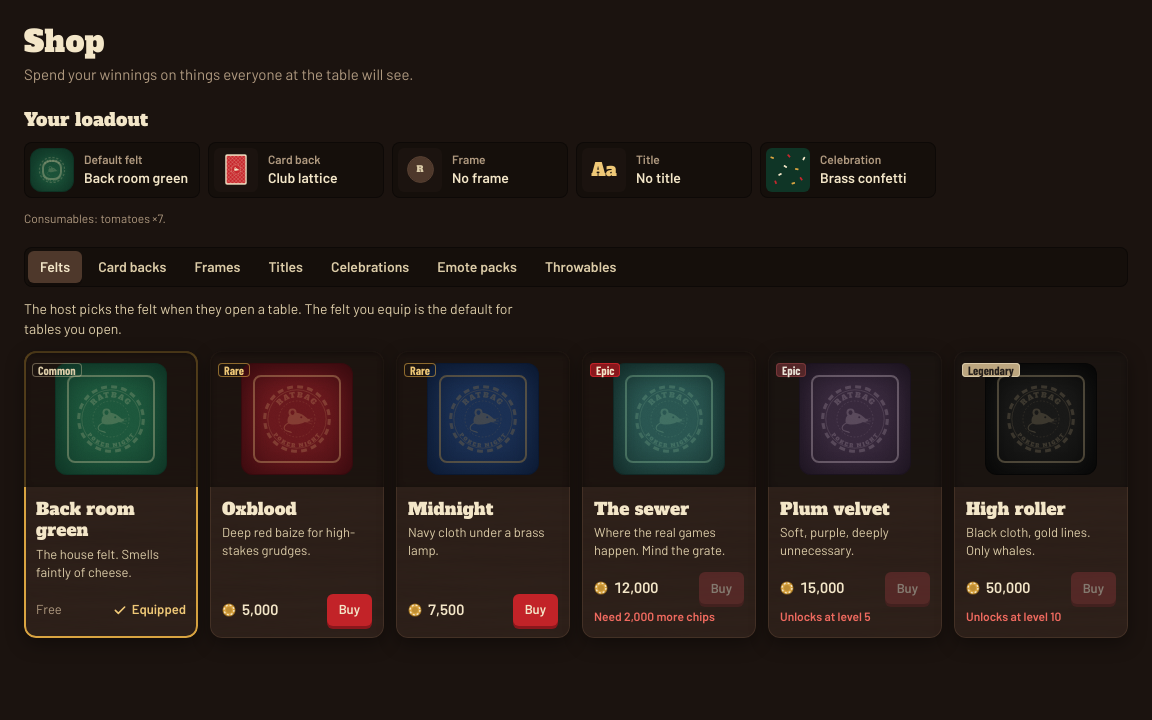
it: ShopScreen › shows consumable quantities owned and emote packs as owned
Click the tab "Throwables" at (581, 267), box [533,251,628,283]
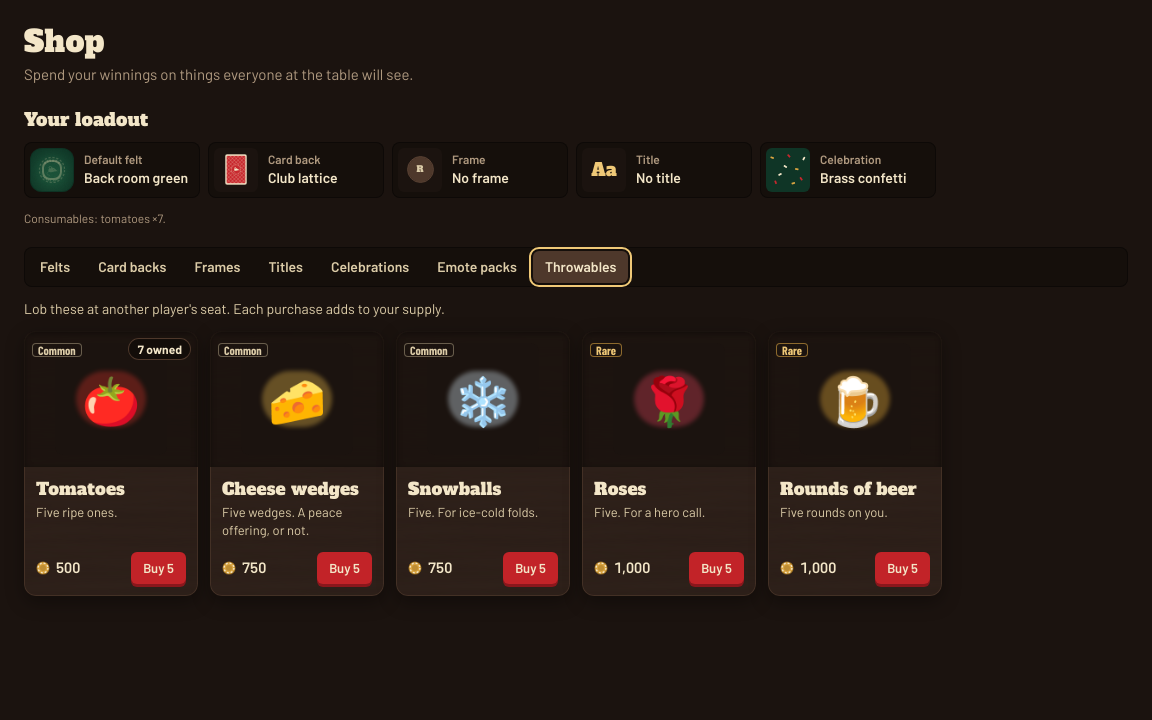
Expected: the button "Buy 5" next to "500" is enabled, [131,552,186,584]
Now the text "7 owned" is shown, box [129,339,190,359]
Click the tab "Emote packs" at (477, 267), box [425,251,529,283]
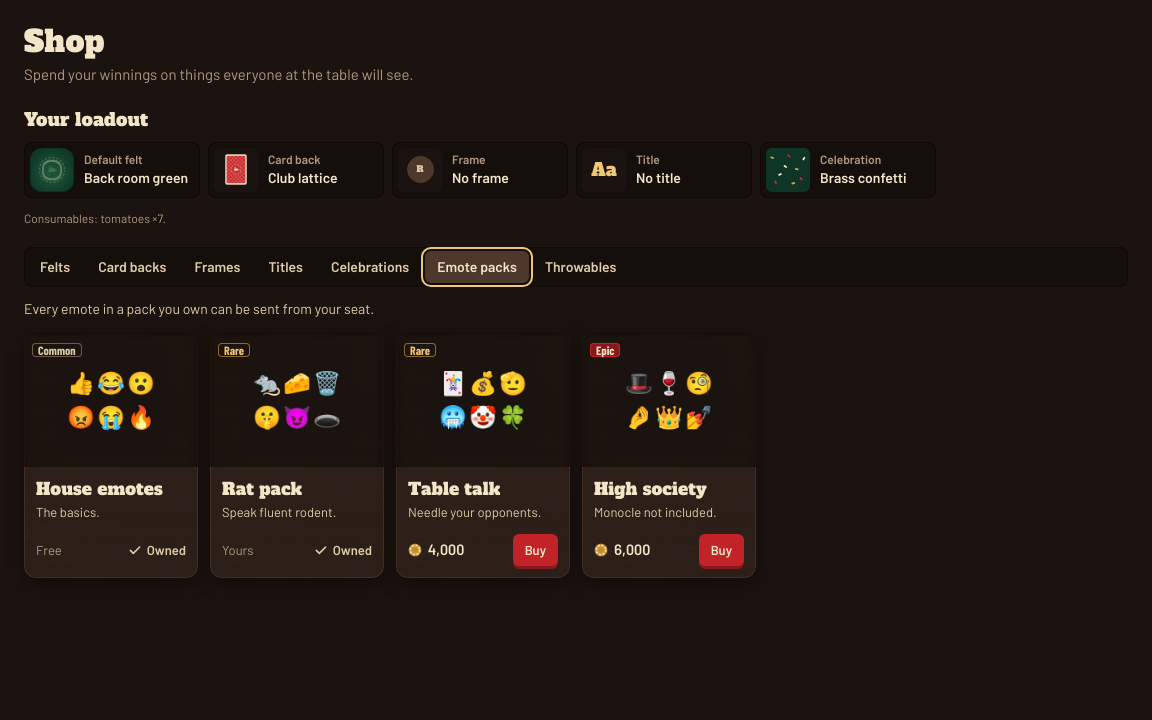
Now the text "Owned" next to "Yours" is shown, box [333,542,372,558]
Now the button "Buy 5" is gone
